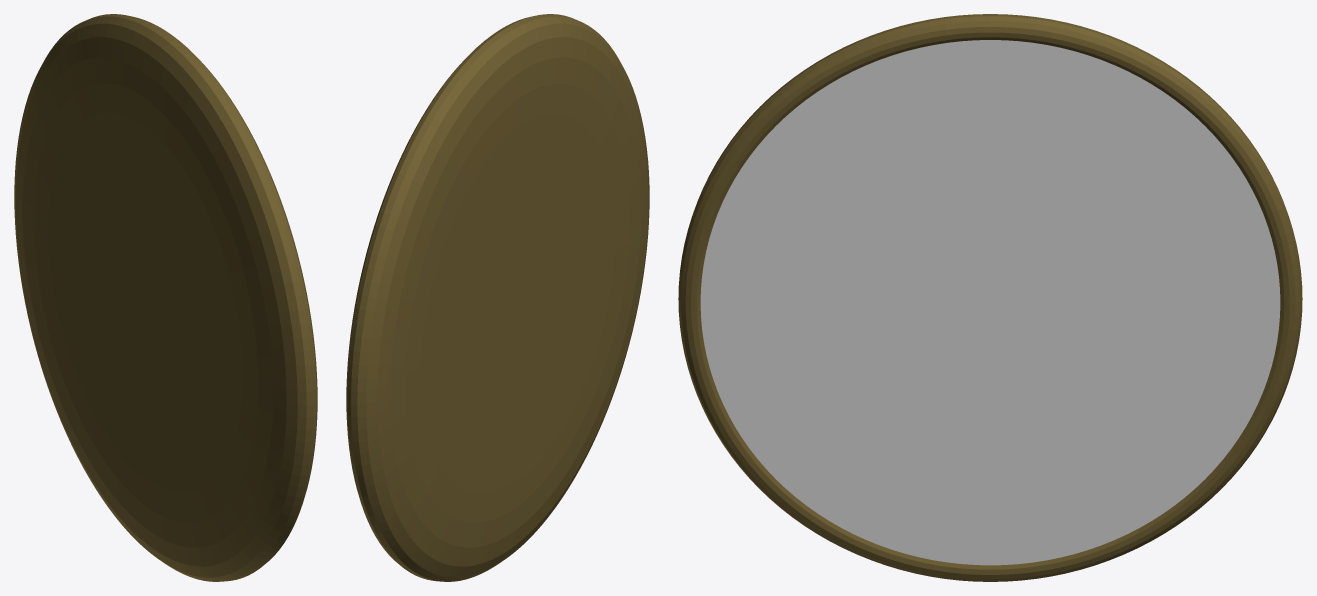
The model's file is Clock.fbx.
3 views of the same model, side by side, from view 1: azimuth 30°, elevation 25°; view 2: azimuth 150°, elevation 25°; view 3: azimuth 270°, elevation 25° (orthographic). The views are drawn at different scales.
Parts seen in each view (by area): view 1: Circle; view 2: Circle; view 3: Circle.003, Circle.
Part boxes in pixels (<box>): Circle: <box>14,14,317,581</box>; Circle: <box>346,14,649,581</box>; Circle.003: <box>700,40,1280,565</box>; Circle: <box>678,14,1302,581</box>.
Size of the model in its own units: 3.57 by 57.27 by 57.27.
